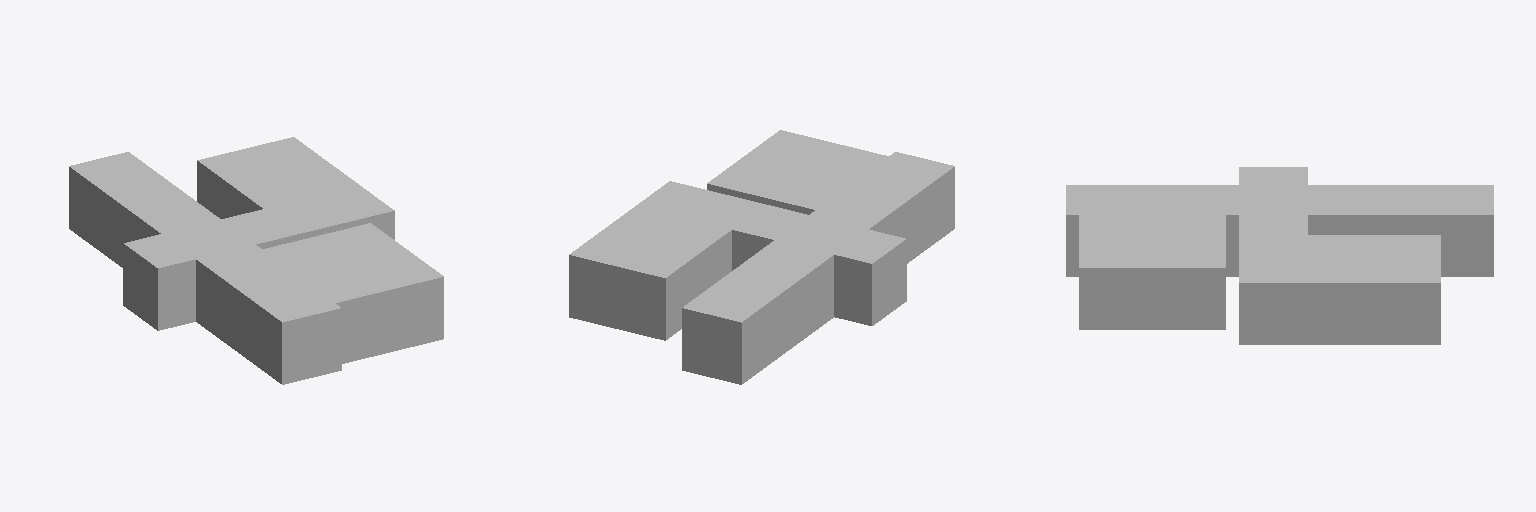
Rendered from CloudV3.obj.
3 views of the same model, side by side, from view 1: azimuth 30°, elevation 25°; view 2: azimuth 150°, elevation 25°; view 3: azimuth 270°, elevation 25° (orthographic).
Visible parts, largest first — view 1: pCube3; view 2: pCube3; view 3: pCube3.
Boxes of the visible parts, box(x1,y1,x2,y2) form: pCube3: box(69, 137, 443, 384); pCube3: box(569, 130, 954, 384); pCube3: box(1066, 167, 1493, 344).
Size of the model in its own units: 1.98 by 0.5 by 3.1.